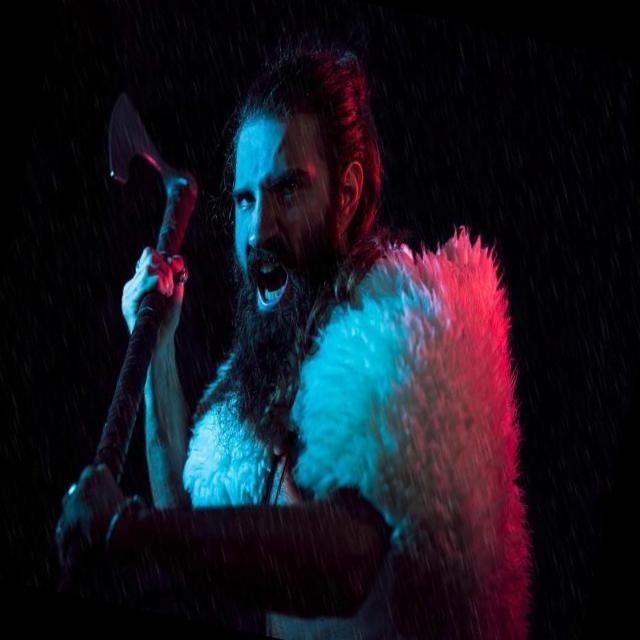Axe: (108, 93, 197, 256), (93, 291, 168, 481)
